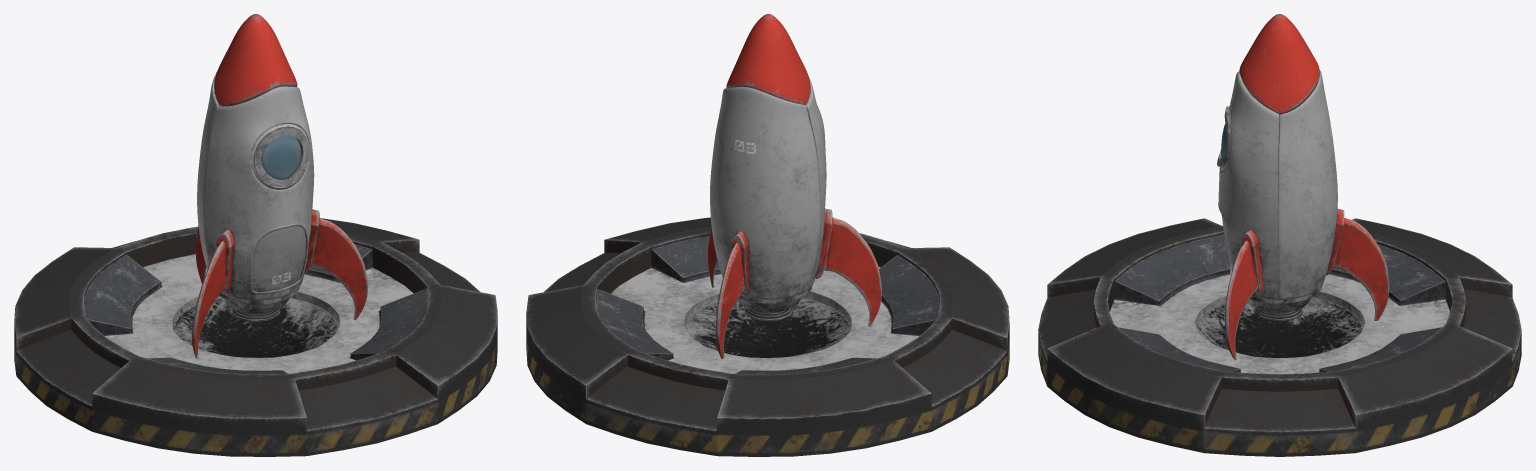
The picture shows the model from 3 angles, left to right: view 1: azimuth 30°, elevation 25°; view 2: azimuth 150°, elevation 25°; view 3: azimuth 270°, elevation 25°; orthographic projection.
Parts seen in each view (by area): view 1: Platform_Outer, Platform_Inner, FrontBody, Platform_Centre, Cone, FIn_1, Door, Fin_3, BackBody, Window, Window_Frame, Propulsion; view 2: Platform_Outer, Platform_Inner, BackBody, Platform_Centre, Cone, Fin_3, Fin_2, FrontBody, Propulsion; view 3: Platform_Outer, Platform_Inner, BackBody, FrontBody, Platform_Centre, Cone, Fin_2, FIn_1, Propulsion.
Part boxes in pixels (x1,y1,x2,y2): Platform_Outer: (14,218,497,456); Platform_Inner: (84,244,427,374); FrontBody: (204,86,314,300); Platform_Centre: (173,297,338,357); Cone: (214,14,297,106); FIn_1: (304,209,367,320); Door: (252,226,305,291); Fin_3: (191,229,234,357); BackBody: (197,72,219,269); Window: (261,135,300,179); Window_Frame: (254,127,308,187); Propulsion: (219,286,299,322); Platform_Outer: (526,217,1009,456); Platform_Inner: (596,235,939,374); BackBody: (710,86,820,299); Platform_Centre: (685,297,850,357); Cone: (726,14,810,104); Fin_3: (815,208,881,326); Fin_2: (715,231,750,358); FrontBody: (805,77,826,289); Propulsion: (737,285,812,321); Platform_Outer: (1038,218,1521,456); Platform_Inner: (1109,234,1449,374); BackBody: (1278,70,1337,299); FrontBody: (1218,71,1279,299); Platform_Centre: (1197,297,1362,357); Cone: (1239,14,1319,114); Fin_2: (1325,209,1389,320); FIn_1: (1225,229,1264,360); Propulsion: (1248,285,1322,321).
Bounding box in the file's own units: 1.25 × 0.9657 × 1.25.
Materials: 2 (2 with a texture image).
